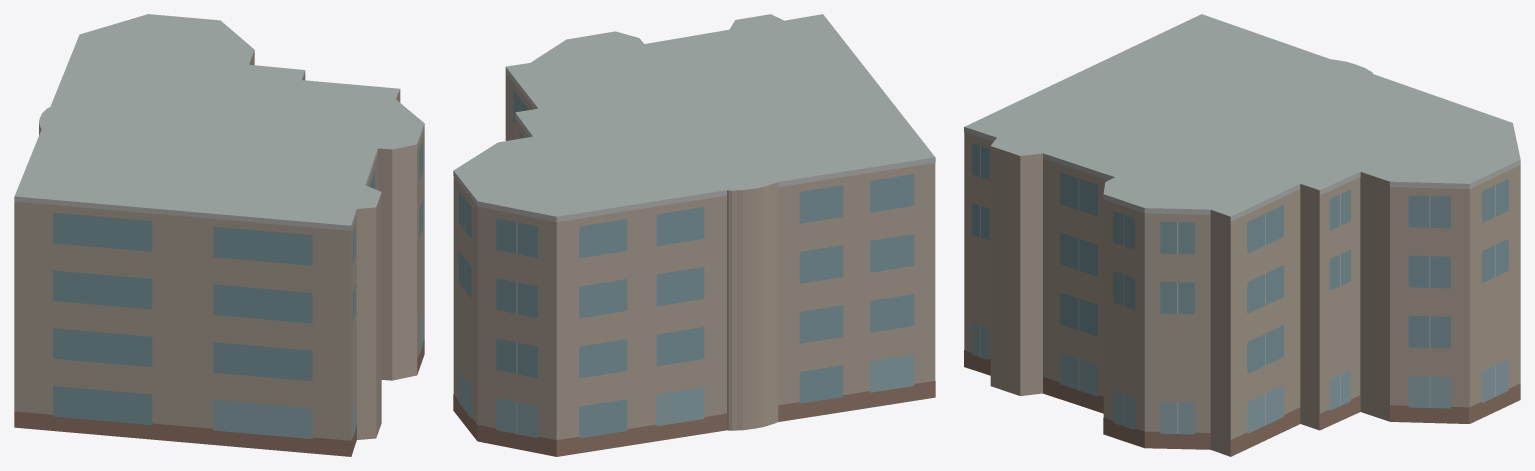
Rendered from survey-upis-32658108.glb.
3 views of the same model, side by side, from view 1: azimuth 30°, elevation 25°; view 2: azimuth 150°, elevation 25°; view 3: azimuth 270°, elevation 25° (orthographic). The views are drawn at different scales.
Visible parts, largest first — view 1: survey-upis-32658108.tmp; view 2: survey-upis-32658108.tmp; view 3: survey-upis-32658108.tmp.
Boxes of the visible parts, bbox=[...] form: survey-upis-32658108.tmp: bbox=[14, 14, 424, 456]; survey-upis-32658108.tmp: bbox=[453, 14, 935, 456]; survey-upis-32658108.tmp: bbox=[964, 14, 1520, 456].
Bounding box in the file's own units: 19.92 × 11 × 23.11.
